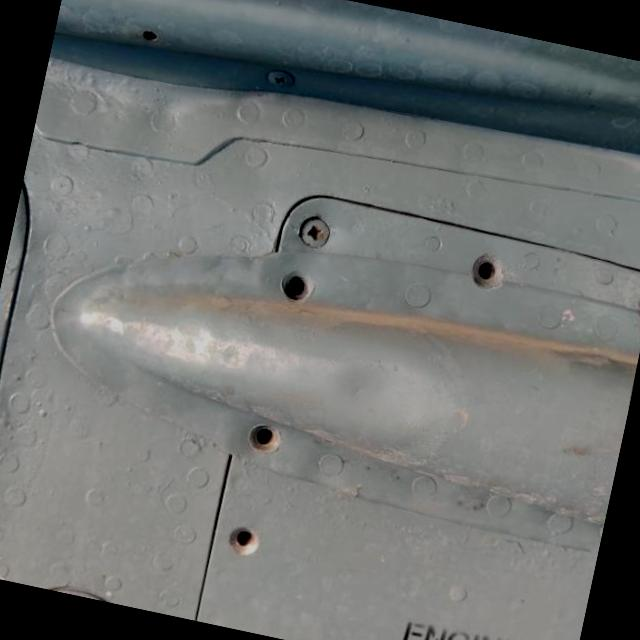Missing Fastener: (467, 250, 526, 300), (243, 418, 290, 464), (224, 522, 266, 563), (277, 268, 319, 308), (132, 20, 170, 53)
